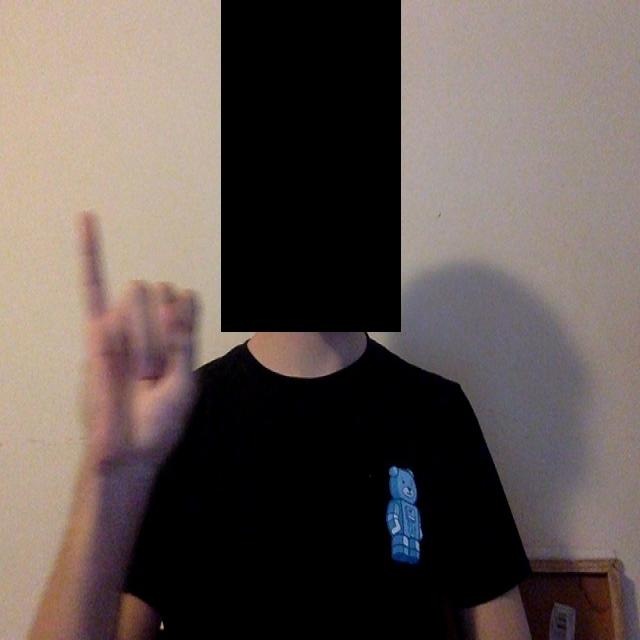I: (47, 191, 236, 491)
